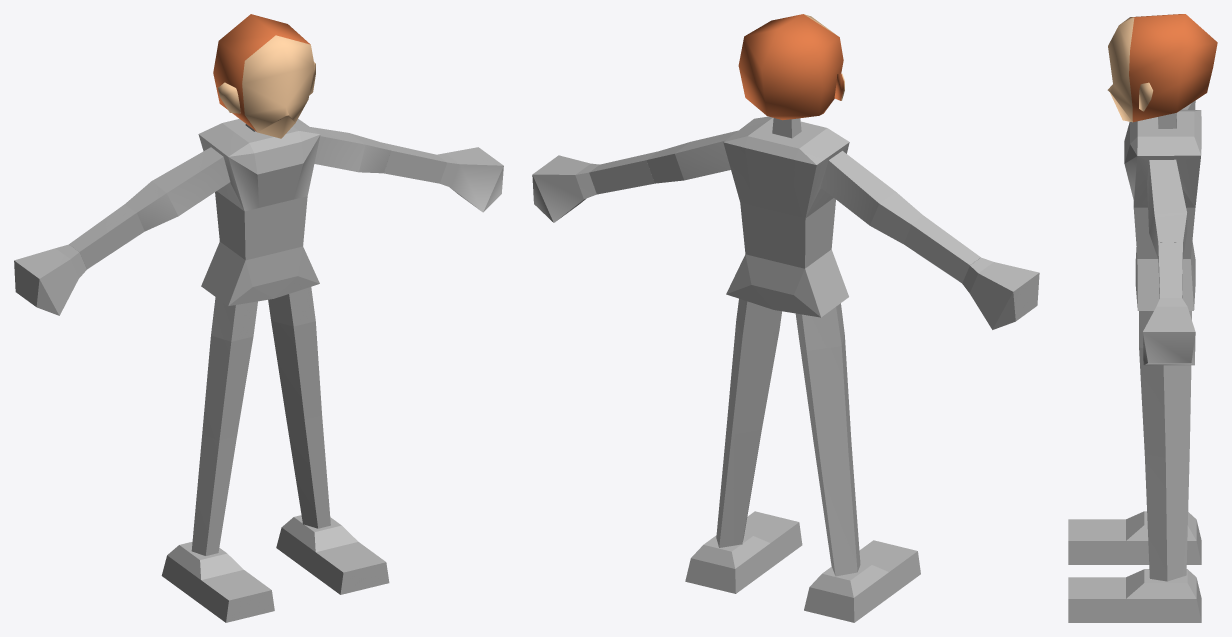
Rendered from male body.fbx.
3 views of the same model, side by side, from view 1: azimuth 30°, elevation 25°; view 2: azimuth 150°, elevation 25°; view 3: azimuth 270°, elevation 25° (orthographic). The views are drawn at different scales.
Visible parts, largest first — view 1: Upper_Torso, Head, Upper_Right_Leg, Right_Foot, Upper_Left_Leg, Left_Foot, Upper_Right_Arm, Lower_Right_Leg, Lower_Left_Leg, Right_Hand, Left_Hand, Upper_Left_Arm (+5 smaller); view 2: Upper_Torso, Head, Upper_Right_Leg, Right_Foot, Left_Foot, Upper_Left_Leg, Upper_Right_Arm, Lower_Right_Leg, Right_Hand, Lower_Left_Leg, Left_Hand, Upper_Left_Arm (+5 smaller); view 3: Head, Left_Foot, Upper_Torso, Lower_Left_Leg, Upper_Left_Leg, Right_Foot, Left_Hand, Upper_Left_Arm, Lower_Torso.002, Lower_Left_Arm, Neck.
Boxes of the visible parts, x1,y1,x2,y2 form: Upper_Torso: (198,119,320,260); Head: (213,14,315,138); Upper_Right_Leg: (202,297,257,440); Right_Foot: (161,541,274,622); Upper_Left_Leg: (268,287,321,419); Left_Foot: (276,515,389,594); Upper_Right_Arm: (124,147,230,231); Lower_Right_Leg: (191,435,236,555); Lower_Left_Leg: (285,415,330,528); Right_Hand: (14,244,86,315); Left_Hand: (437,147,503,212); Upper_Left_Arm: (310,127,391,173); Upper_Torso: (723,116,849,268); Head: (738,14,844,120); Upper_Right_Leg: (795,303,851,455); Right_Foot: (804,540,920,622); Left_Foot: (685,511,802,593); Upper_Left_Leg: (727,298,781,433); Upper_Right_Arm: (820,151,922,243); Lower_Right_Leg: (813,442,860,576); Right_Hand: (962,257,1039,329); Lower_Left_Leg: (716,422,761,547); Left_Hand: (532,155,599,222); Upper_Left_Arm: (646,130,737,183); Head: (1107,14,1217,122); Left_Foot: (1068,569,1201,622); Upper_Torso: (1124,109,1201,258); Lower_Left_Leg: (1144,450,1189,581); Upper_Left_Leg: (1139,311,1191,457); Right_Foot: (1068,511,1201,564); Left_Hand: (1143,298,1195,365); Upper_Left_Arm: (1147,159,1187,258); Lower_Torso.002: (1135,259,1195,310); Lower_Left_Arm: (1158,242,1182,298); Neck: (1158,113,1176,128).
Bounding box in the file's own units: 156 × 176 × 41.97.
